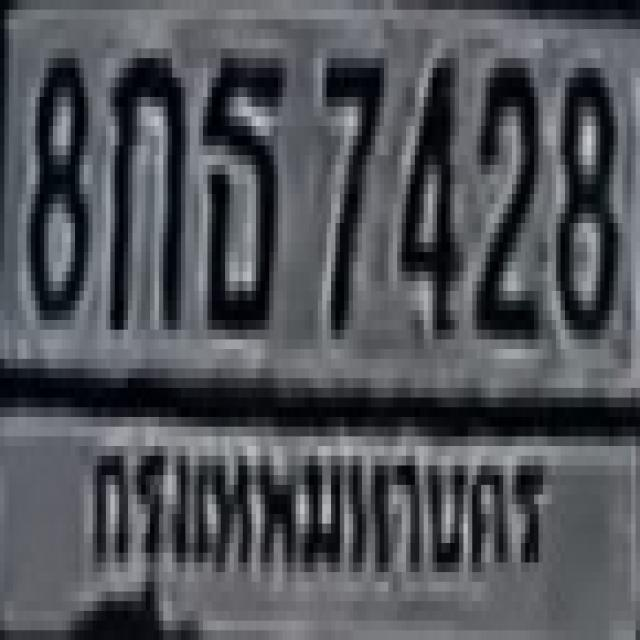-: (198, 48, 282, 320), (106, 44, 181, 315)
2: (472, 48, 534, 330)
4: (397, 48, 455, 330)
7: (322, 48, 380, 330)
8: (552, 58, 614, 330), (26, 48, 84, 310)
BKK: (75, 414, 561, 626)
